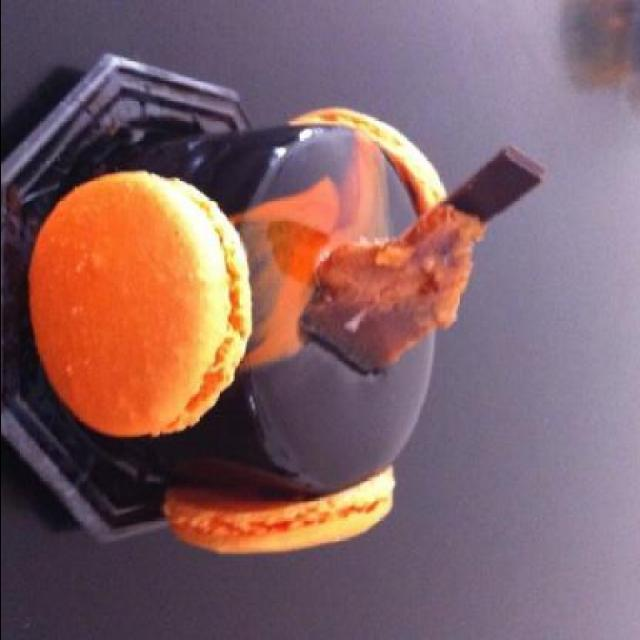Macaron: (8, 168, 256, 450), (146, 468, 400, 572)
